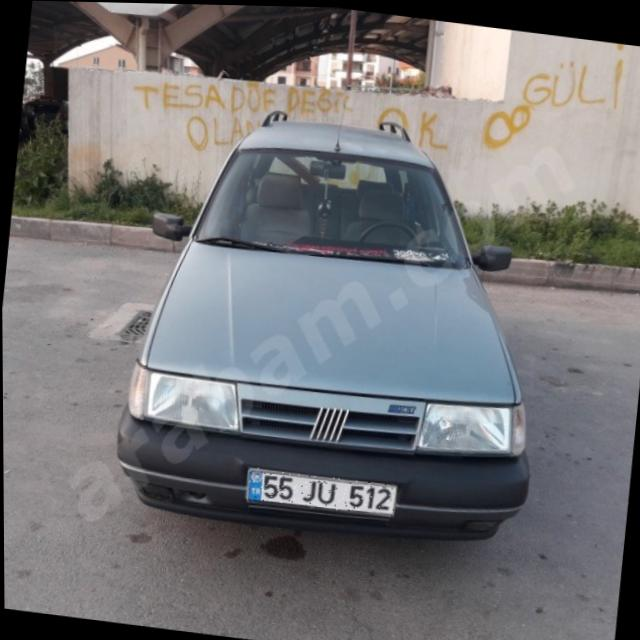license_plate: (243, 465, 396, 515)
